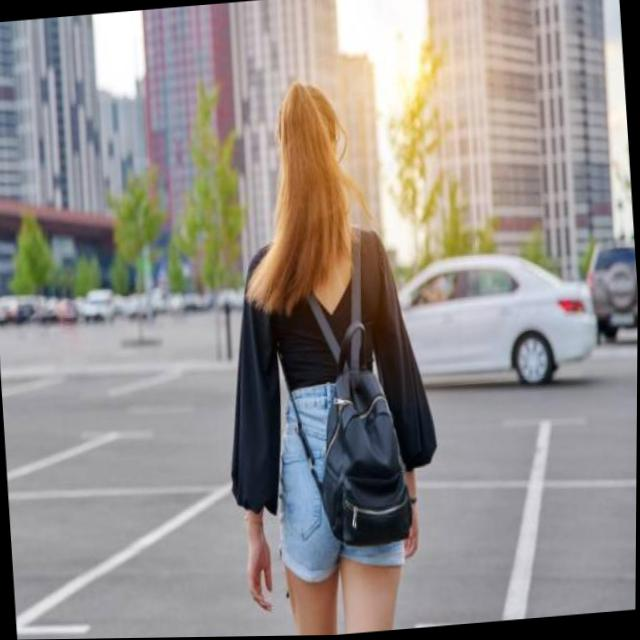no helmet: (251, 74, 386, 232)
